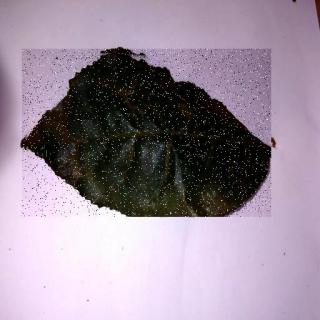Anthracnose: (23, 50, 272, 218)
